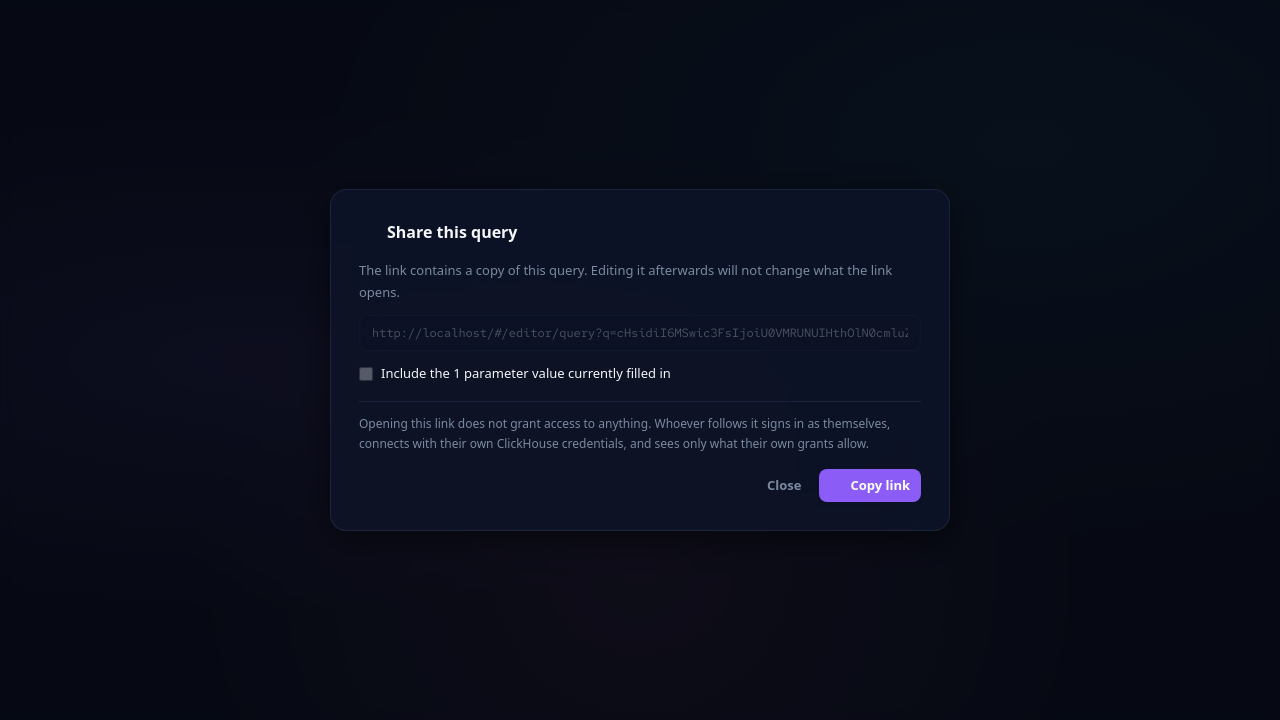
Test: ShareDialog › warns that the values travel in the link
Click the checkbox: click(366, 374) [359, 367, 373, 381]
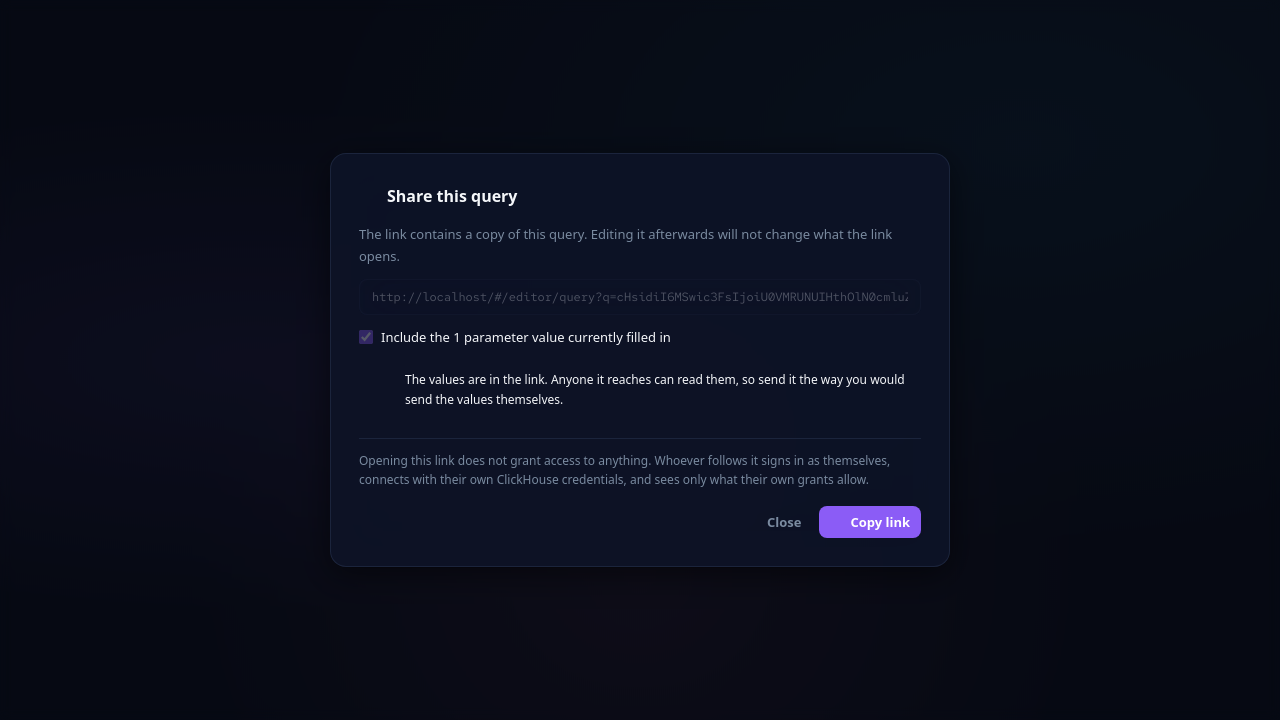
Check: the text "Anyone it reaches can read them" is shown, box [405, 371, 905, 408]
